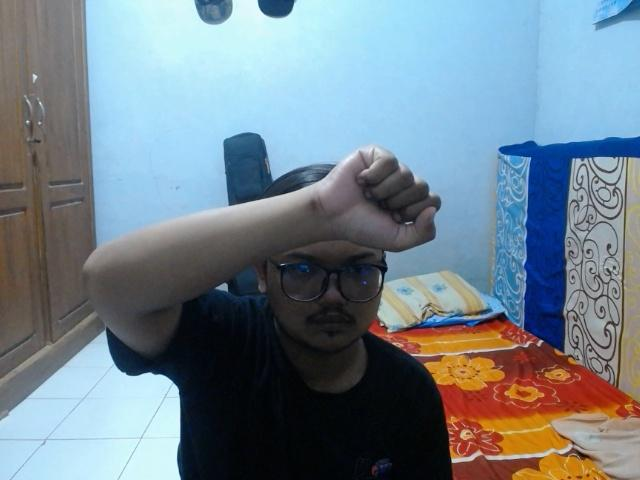Grab: (311, 139, 447, 256)
